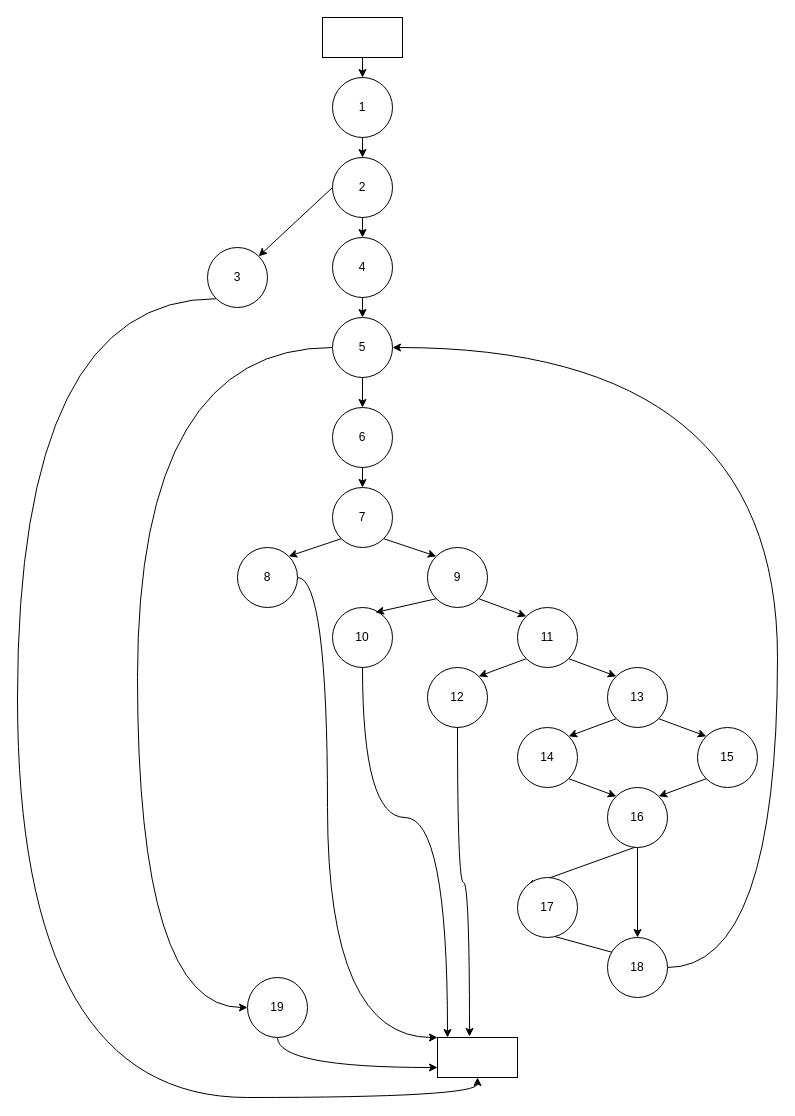
Image size: 795x1116. Some labels were removed from this diagram. Here are the shapes that lost their labels. From the top down, the centre of each, then its label:
[362,37]: Start
[477,1057]: Exit
